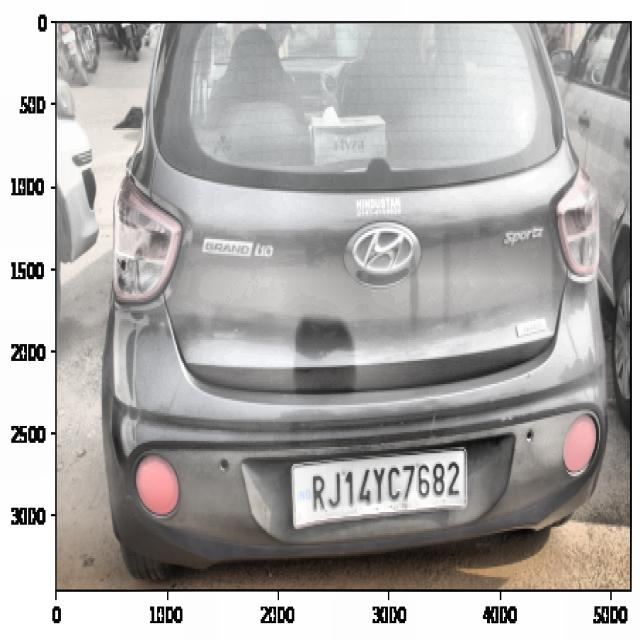license_plate: (303, 458, 468, 513)
